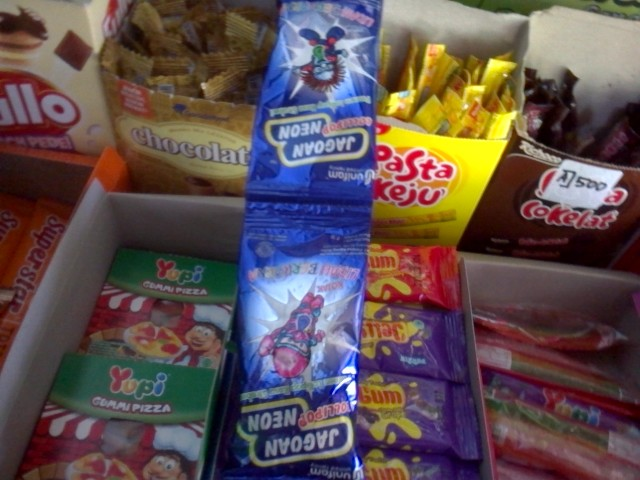jagoan neon: (224, 210, 371, 479), (249, 1, 383, 214)
